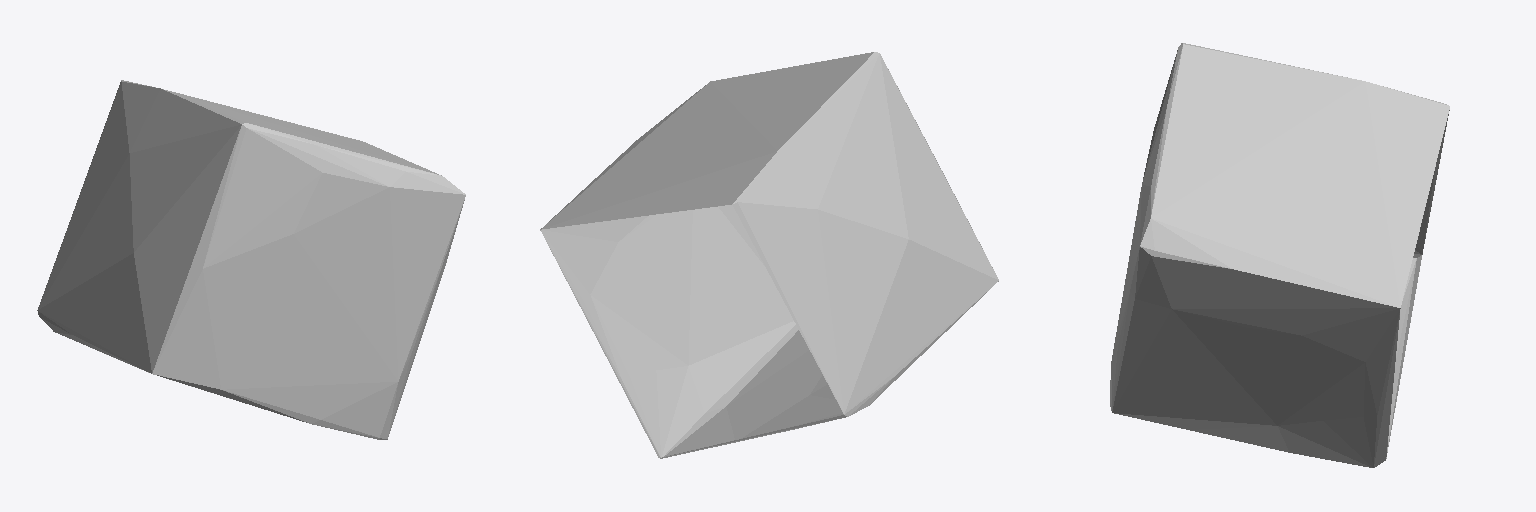
Rendered from voxel2.obj.
3 renders of one model, left to right at view 1: azimuth 30°, elevation 25°; view 2: azimuth 150°, elevation 25°; view 3: azimuth 270°, elevation 25°, orthographic.
Bounding box in the file's own units: 0.333 × 0.3478 × 0.2932.